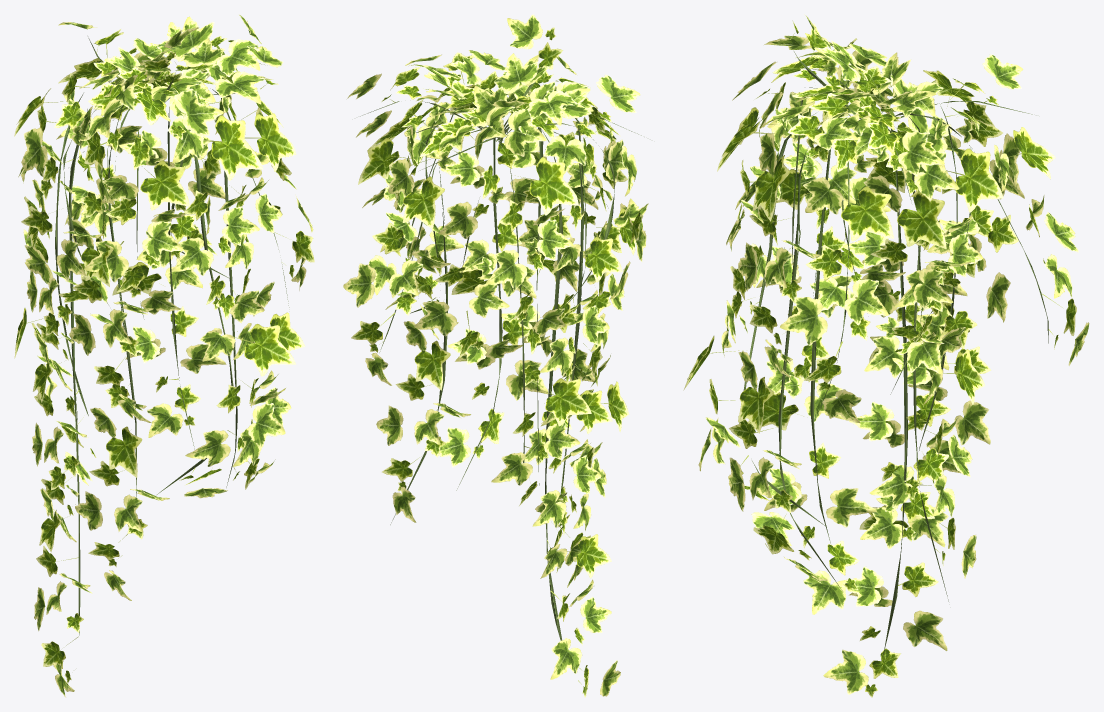
Rendered from ivy_decimate_nopot.gltf.
The picture shows the model from 3 angles, left to right: view 1: azimuth 30°, elevation 25°; view 2: azimuth 150°, elevation 25°; view 3: azimuth 270°, elevation 25°; orthographic projection. The views are drawn at different scales.
Parts seen in each view (by area): view 1: ivy leaf a 1-1.017; view 2: ivy leaf a 1-1.017; view 3: ivy leaf a 1-1.017.
Part boxes in pixels (box(x1,y1,x2,y2)): ivy leaf a 1-1.017: box(14, 14, 314, 697); ivy leaf a 1-1.017: box(343, 14, 648, 697); ivy leaf a 1-1.017: box(683, 14, 1089, 697).
Bounding box in the file's own units: 26.35 × 59.37 × 29.84.
Materials: 3 (3 with a texture image).
